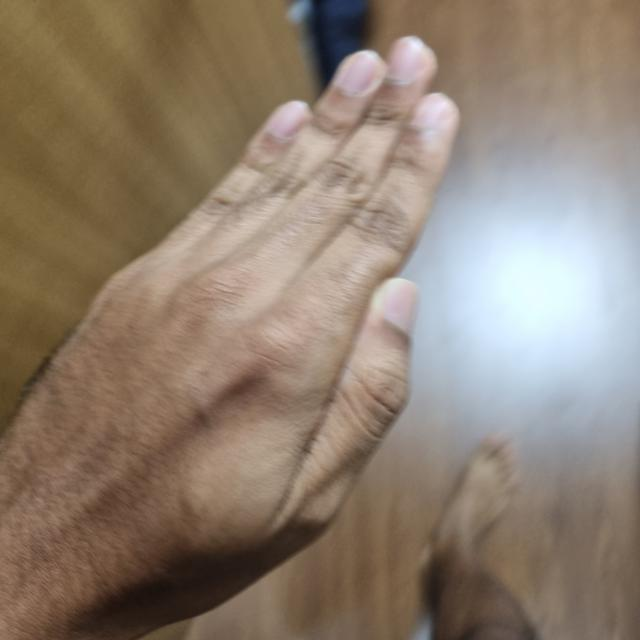Paper: (1, 43, 451, 614)
